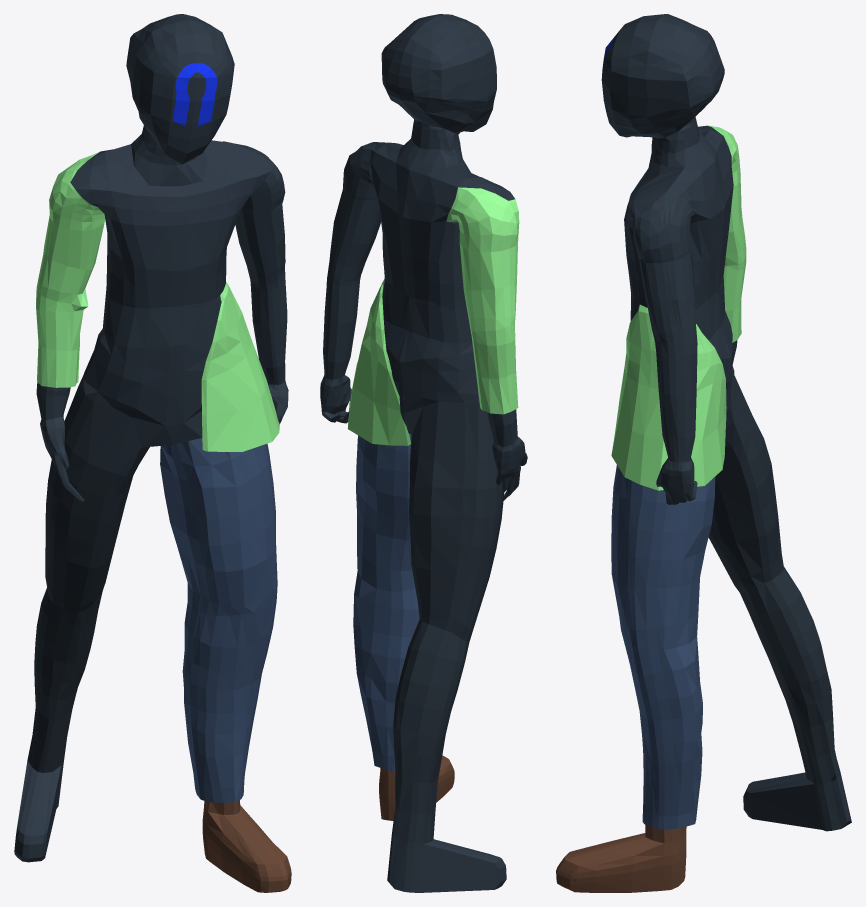
Rendered from Mar_Recover_000011.obj.
The picture shows the model from 3 angles, left to right: view 1: azimuth 30°, elevation 25°; view 2: azimuth 150°, elevation 25°; view 3: azimuth 270°, elevation 25°; orthographic projection. The views are drawn at different scales.
Visible parts, largest first — view 1: Cube.000_Cube.001; view 2: Cube.000_Cube.001; view 3: Cube.000_Cube.001.
Part boxes in pixels (<box>): Cube.000_Cube.001: <box>14,14,291,892</box>; Cube.000_Cube.001: <box>320,14,527,892</box>; Cube.000_Cube.001: <box>556,14,851,892</box>.
Size of the model in its own units: 1.11 by 3.92 by 1.25.
